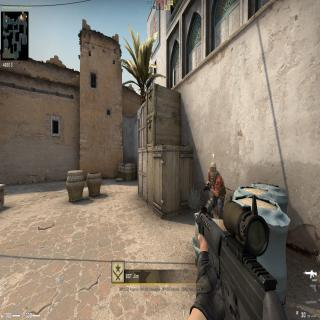T-Head: (208, 159, 219, 179)
